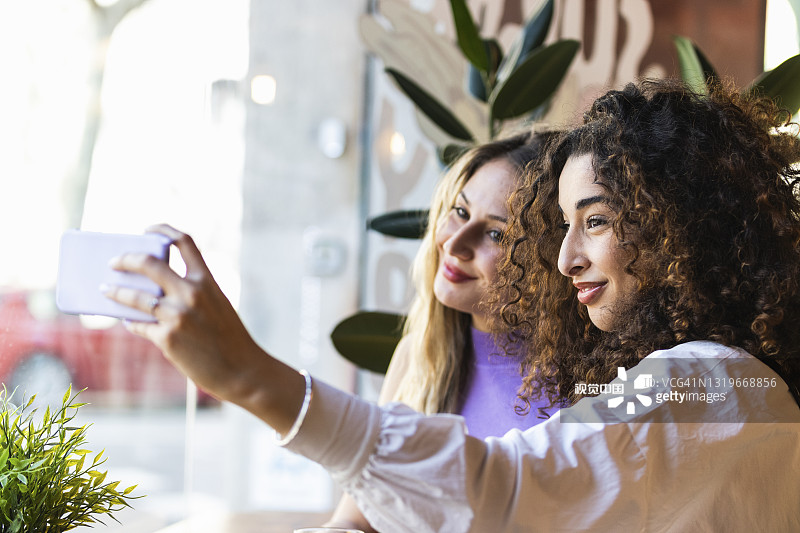taking photos: (48, 204, 290, 418)
